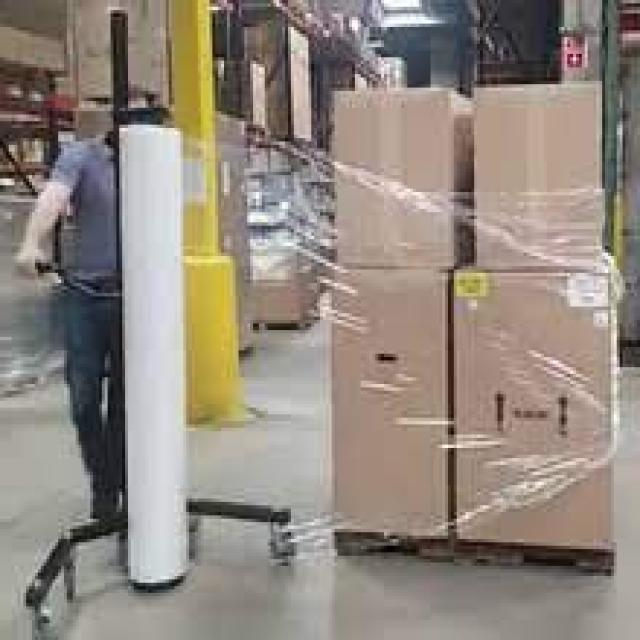cardboxes: (454, 268, 618, 542), (328, 267, 452, 534), (473, 79, 603, 268), (335, 89, 454, 268)
